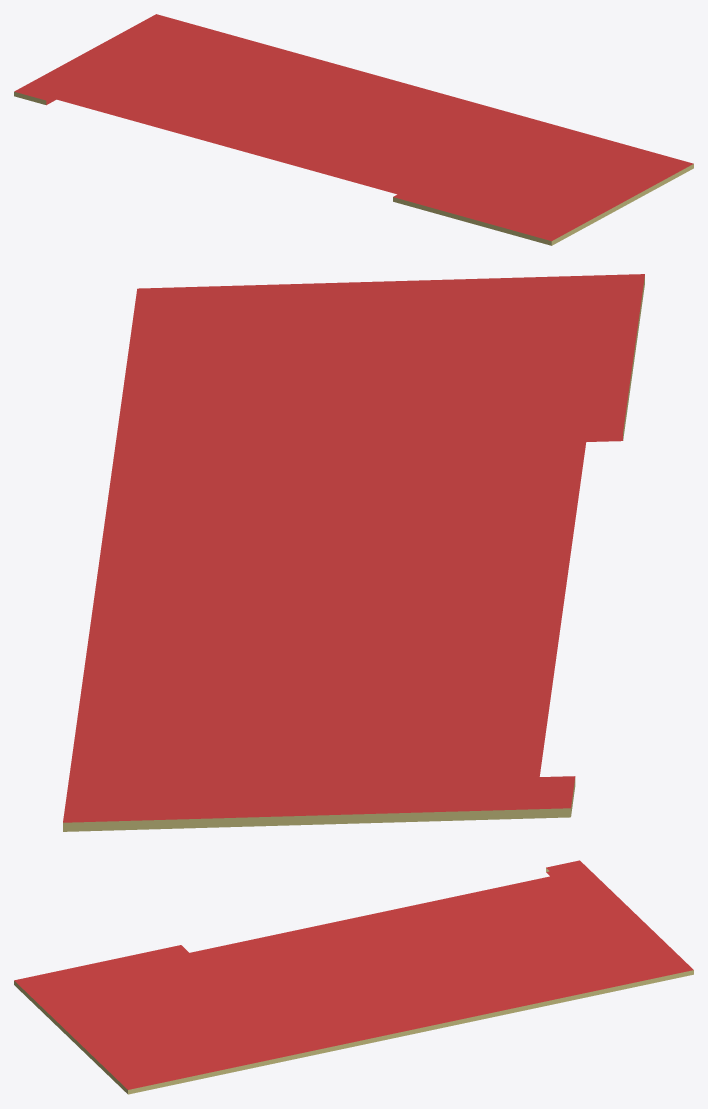
3 renders of one model, top to bottom at view 1: azimuth 30°, elevation 25°; view 2: azimuth 150°, elevation 25°; view 3: azimuth 270°, elevation 25°, orthographic. The views are drawn at different scales.
Bounding box in the file's own units: 10.09 × 13.41 × 0.395.
